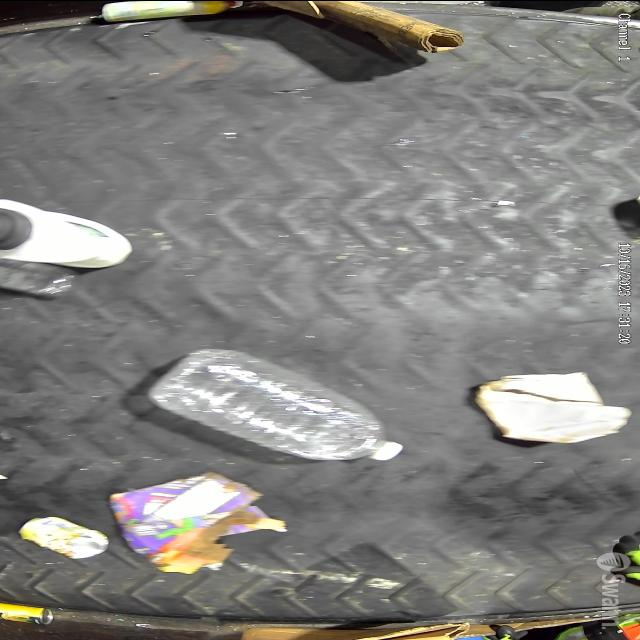can: (10, 512, 114, 563)
plastic_bottle: (148, 342, 404, 463)
